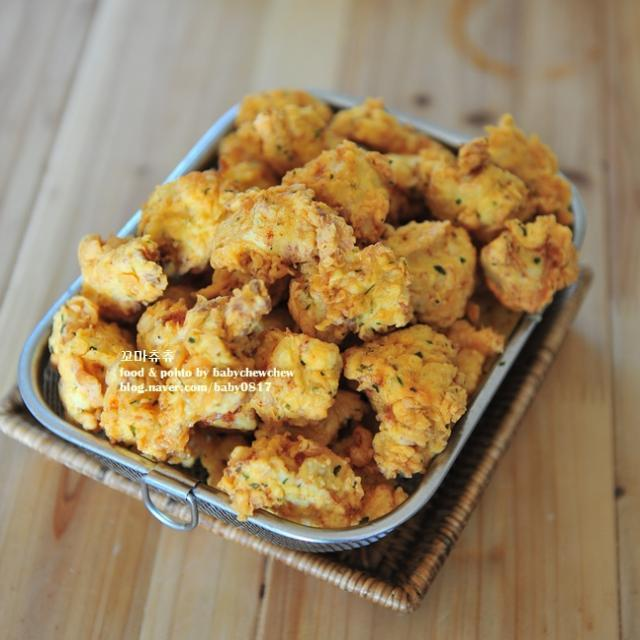Frango: (65, 83, 578, 521)
